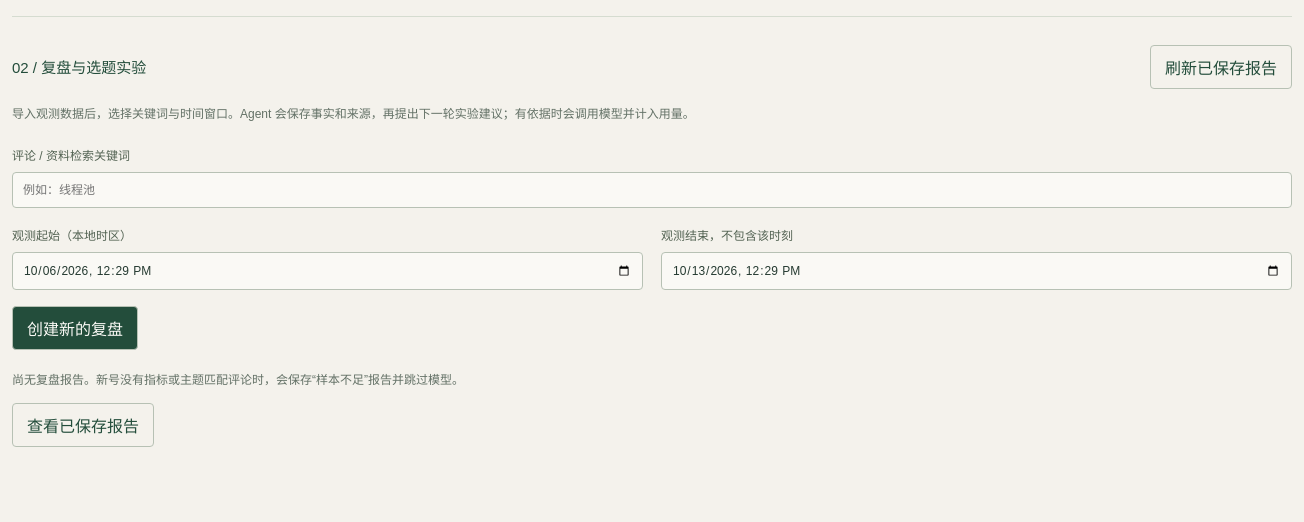
keeps the original request when a successful response omits its saved content
In the field named "复盘关键词": [652, 190] box [12,172,1292,208], type "线程池"
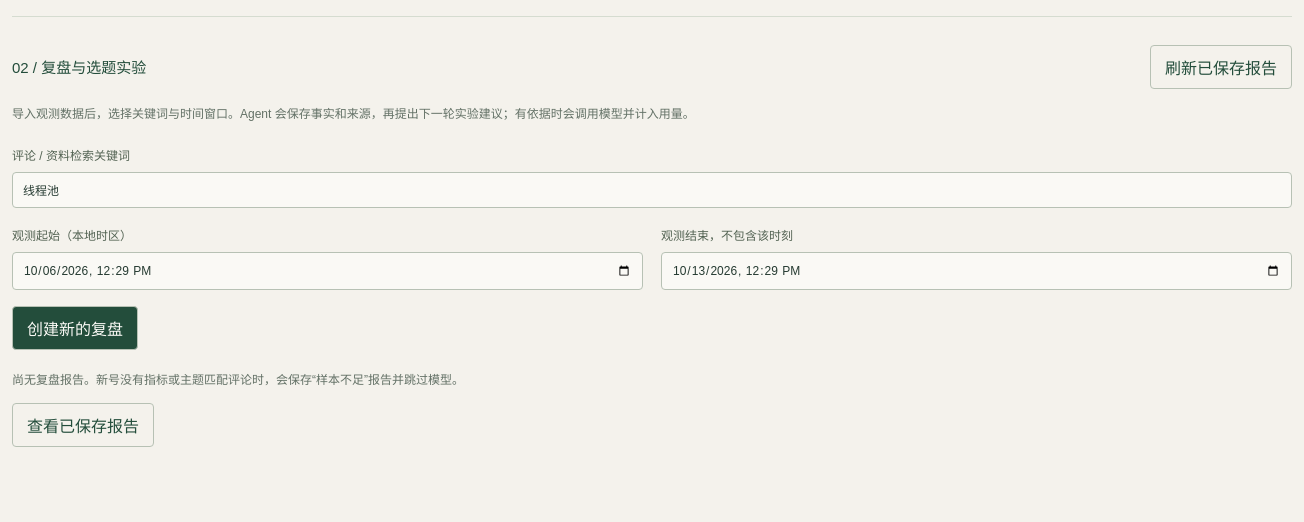
Submit the form, box [12,146,1292,350]
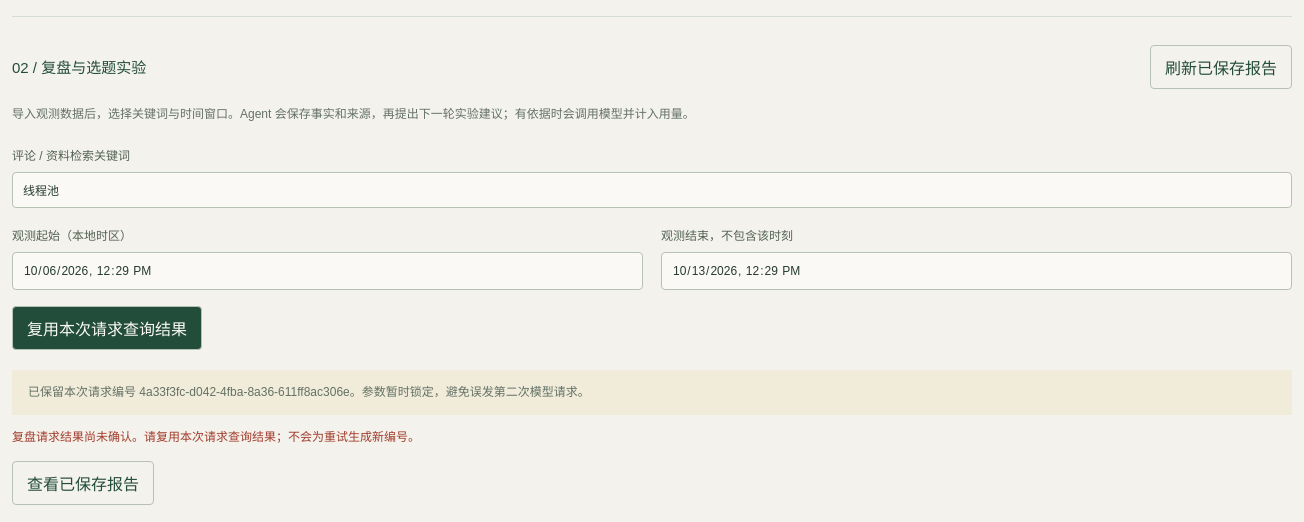
Result: the element showing "评论 / 资料检索关键词 观测起始（本地时区） 观测结束，不包含该时刻" is disabled at [12,146,1292,290]
